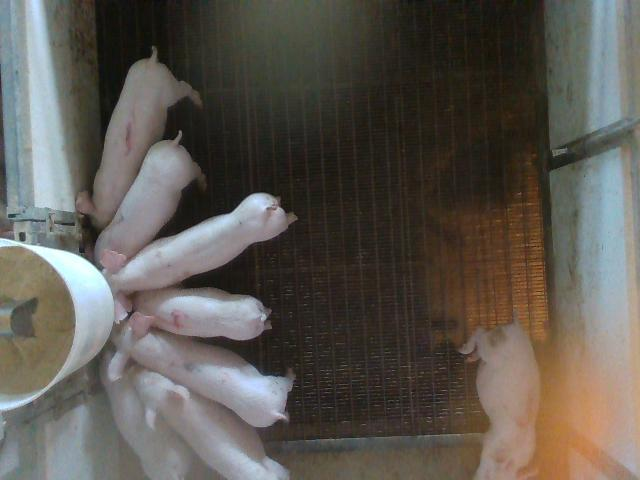pig-1: (76, 48, 201, 229)
pig-3: (459, 319, 540, 478)
pig-4: (132, 288, 271, 339)
